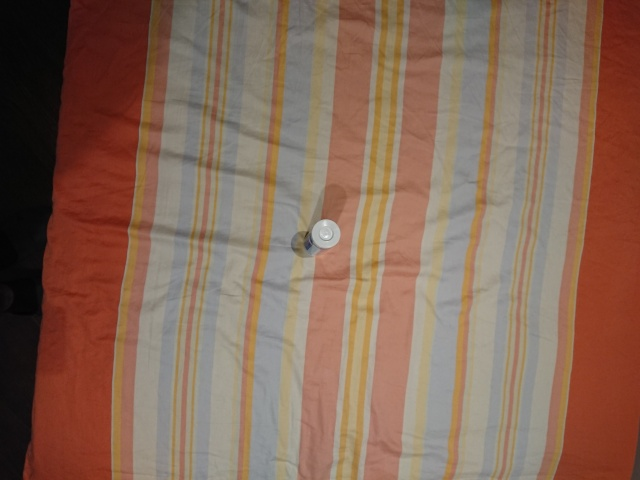Solana Pag Fine Sea Salt 250g: (300, 217, 343, 259)
